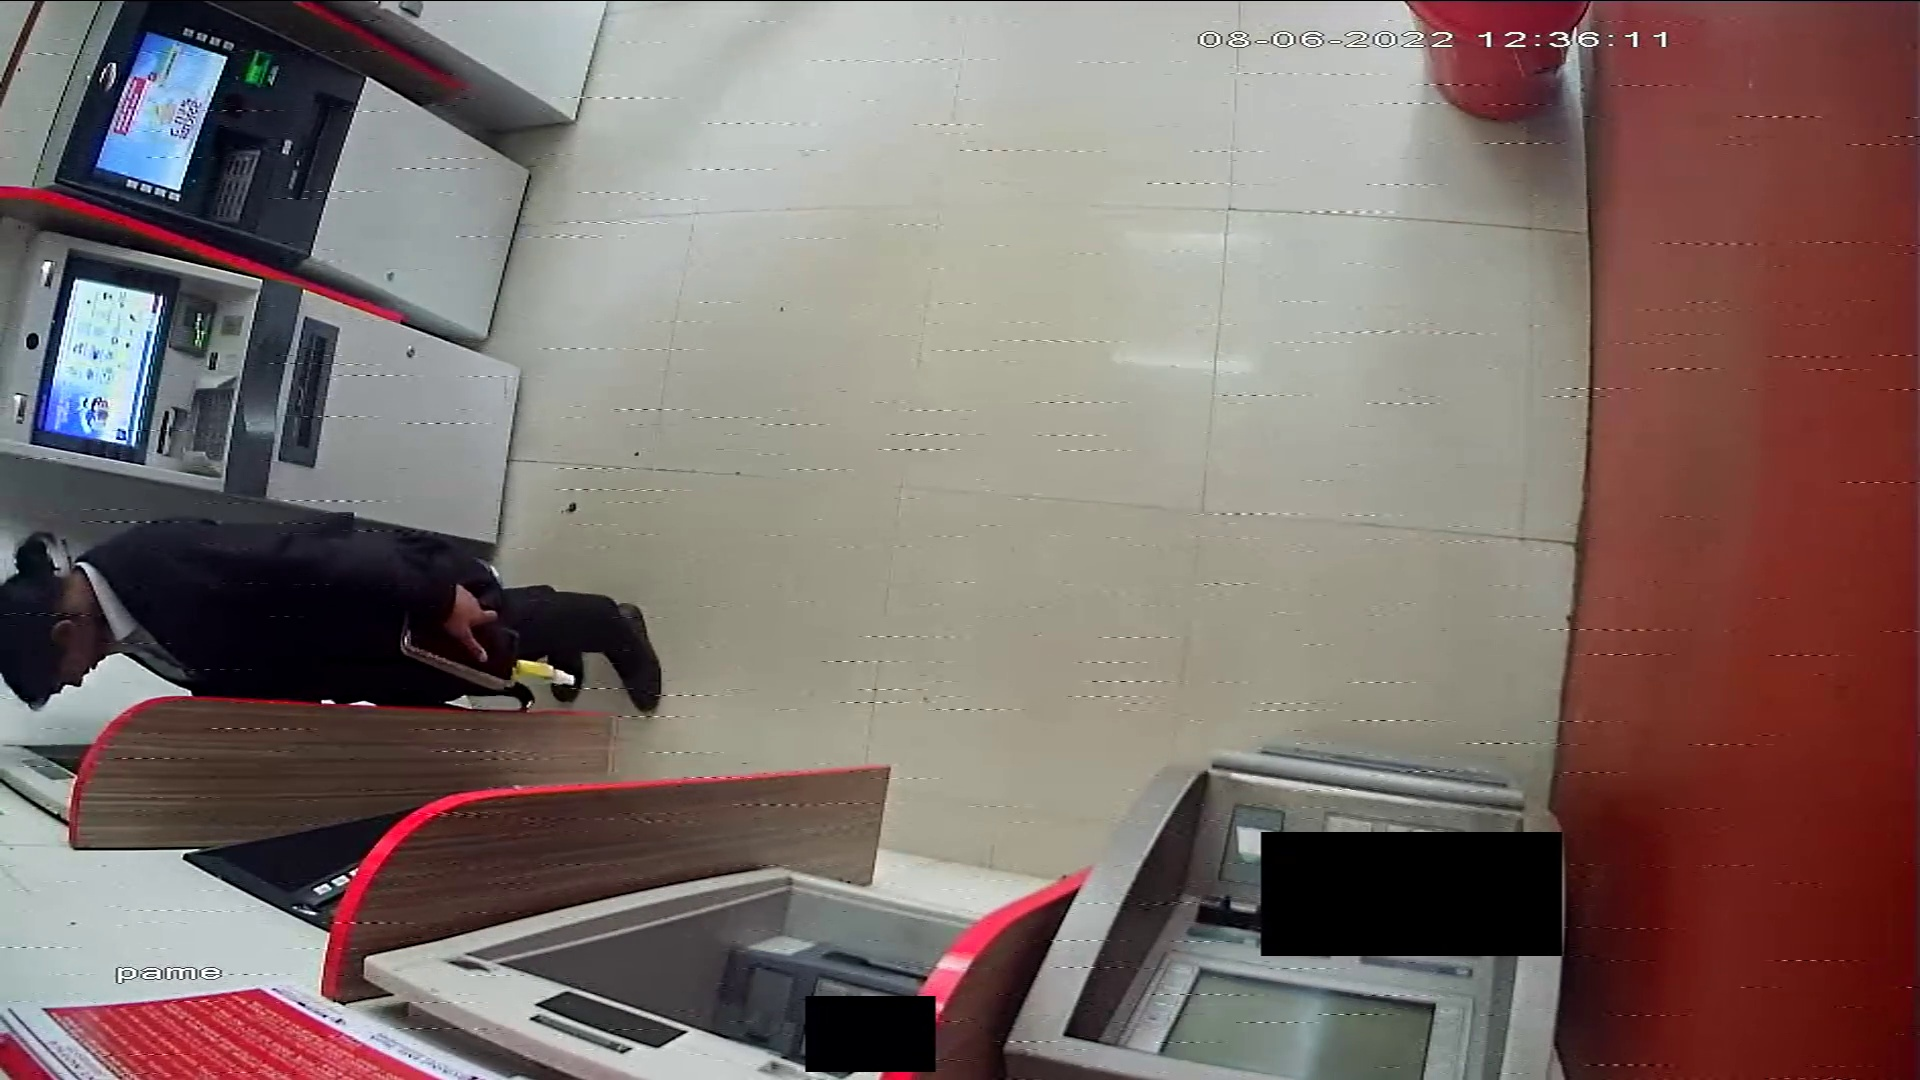person: (1, 518, 667, 716)
